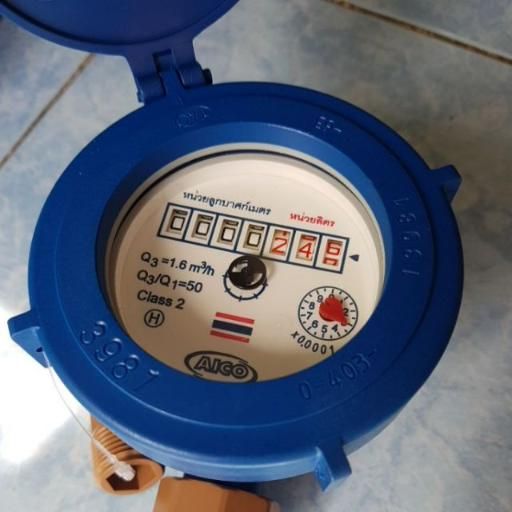0: (184, 207, 217, 245), (211, 213, 242, 251), (236, 219, 267, 257), (160, 203, 190, 241)
2: (262, 223, 293, 261)
4: (289, 230, 319, 266)
6: (315, 235, 346, 272)
border_water_meter_number: (157, 200, 351, 275)
